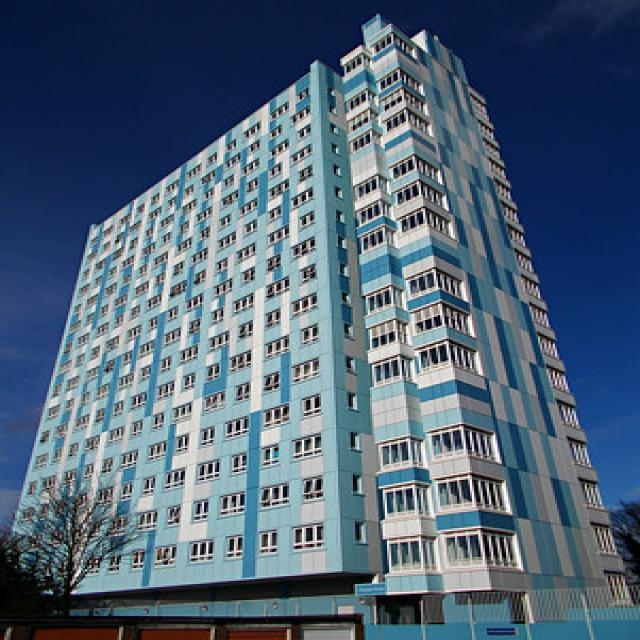building: (17, 17, 638, 640)
